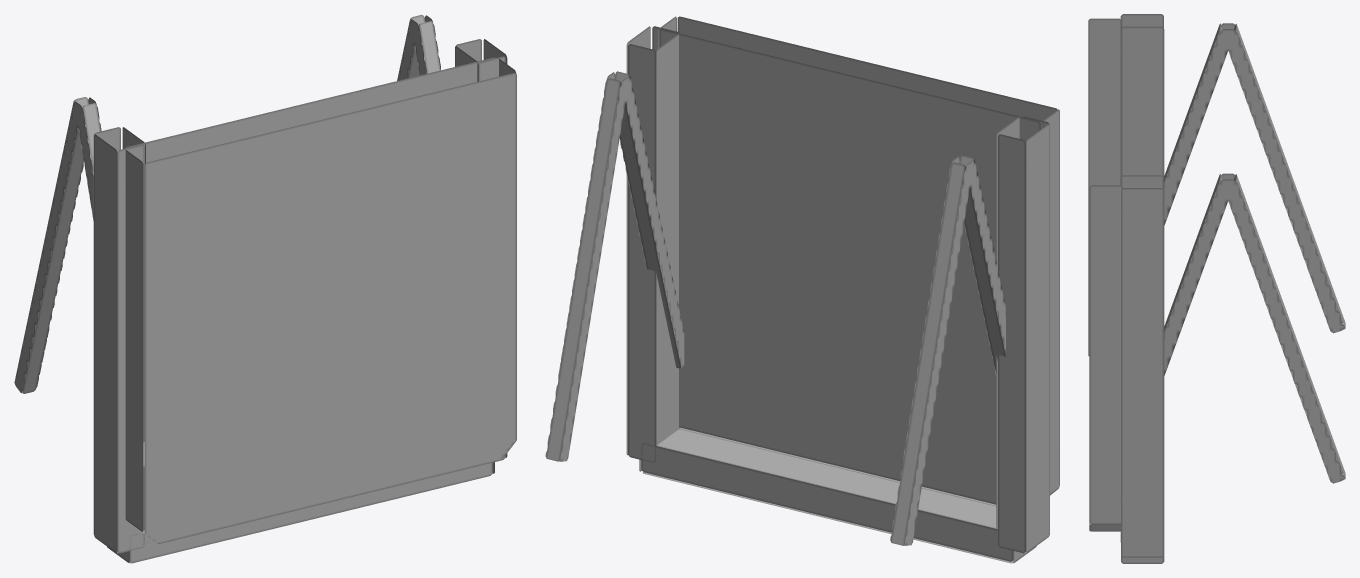
The model's file is pz_bed_bedding_01_stretcher_0_0.obj.
3 views of the same model, side by side, from view 1: azimuth 30°, elevation 25°; view 2: azimuth 150°, elevation 25°; view 3: azimuth 270°, elevation 25° (orthographic). The views are drawn at different scales.
Size of the model in its own units: 0.95 by 0.97 by 0.5935.
1 material, 1 textured.
